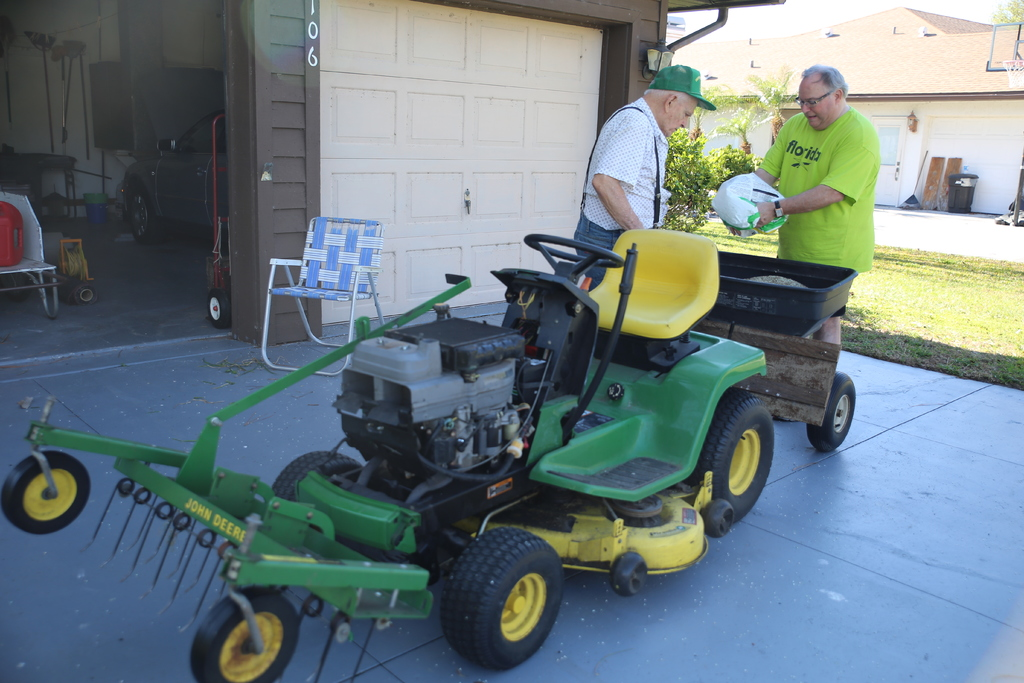Tree: (689, 63, 800, 155)
